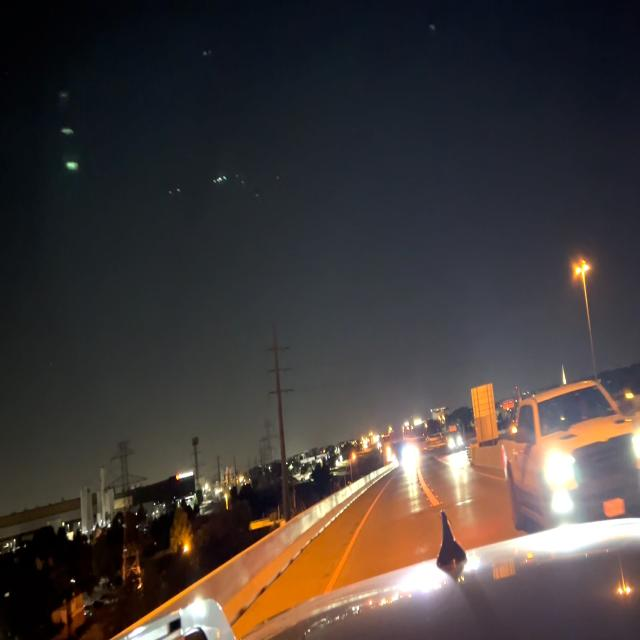back-of-sign: (471, 381, 499, 449)
